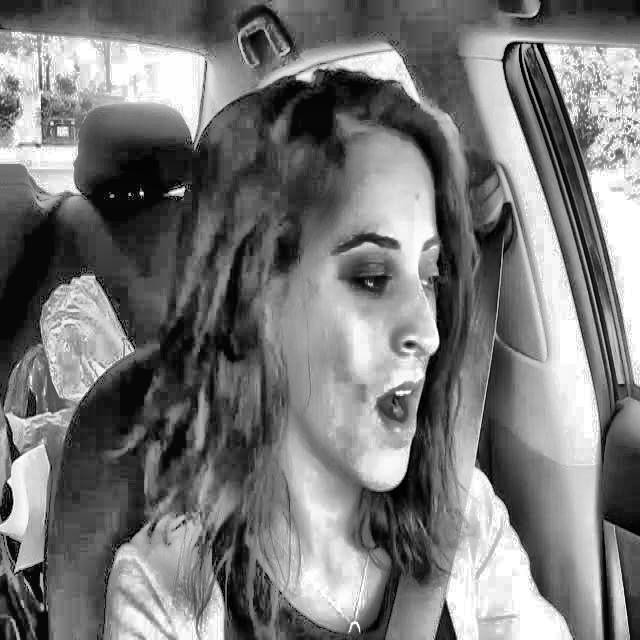open_eyes: (334, 255, 402, 313), (410, 263, 456, 307)
open_mouth: (352, 368, 436, 450)
